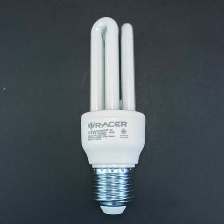light_bulb: (76, 13, 149, 219)
